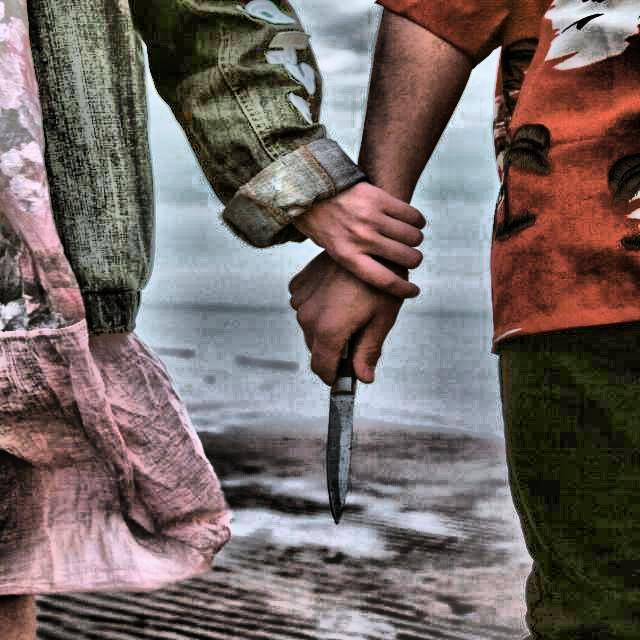knife: (316, 353, 371, 514)
